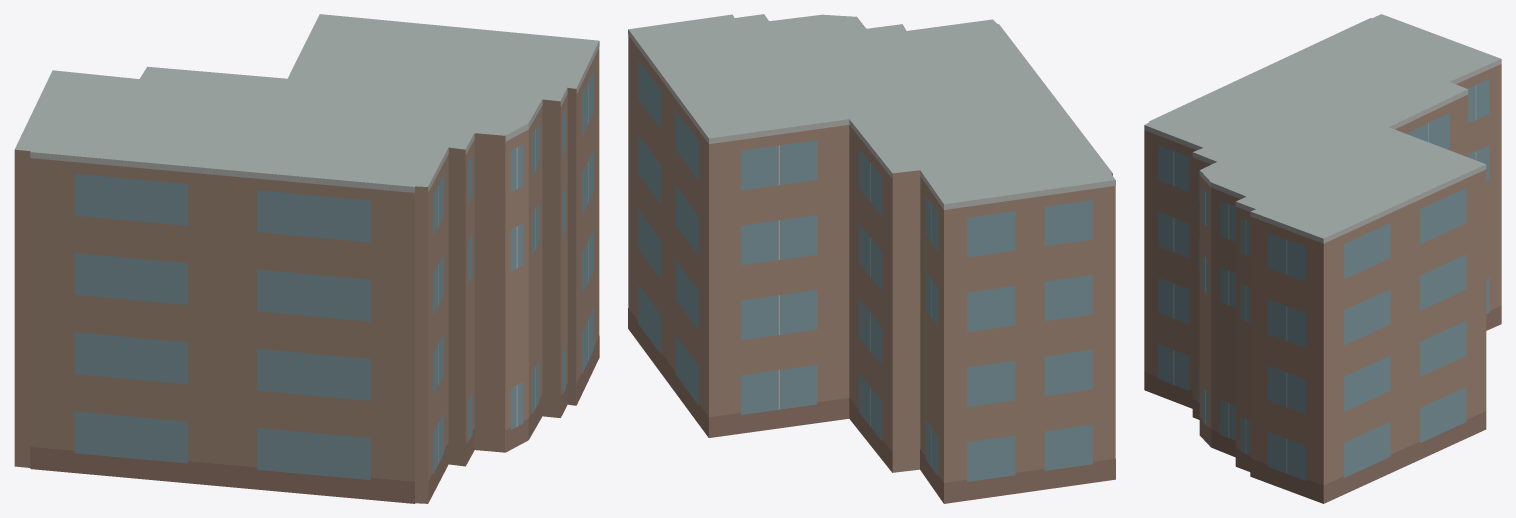
The model's file is survey-upis-32524428.glb.
The picture shows the model from 3 angles, left to right: view 1: azimuth 30°, elevation 25°; view 2: azimuth 150°, elevation 25°; view 3: azimuth 270°, elevation 25°; orthographic projection. The views are drawn at different scales.
Visible parts, largest first — view 1: survey-upis-32524428.tmp; view 2: survey-upis-32524428.tmp; view 3: survey-upis-32524428.tmp.
Part boxes in pixels (box(x1,y1,x2,y2)): survey-upis-32524428.tmp: box(14, 14, 599, 503); survey-upis-32524428.tmp: box(628, 14, 1115, 503); survey-upis-32524428.tmp: box(1144, 14, 1501, 503).
Bounding box in the file's own units: 23.46 × 12.9 × 15.76.
